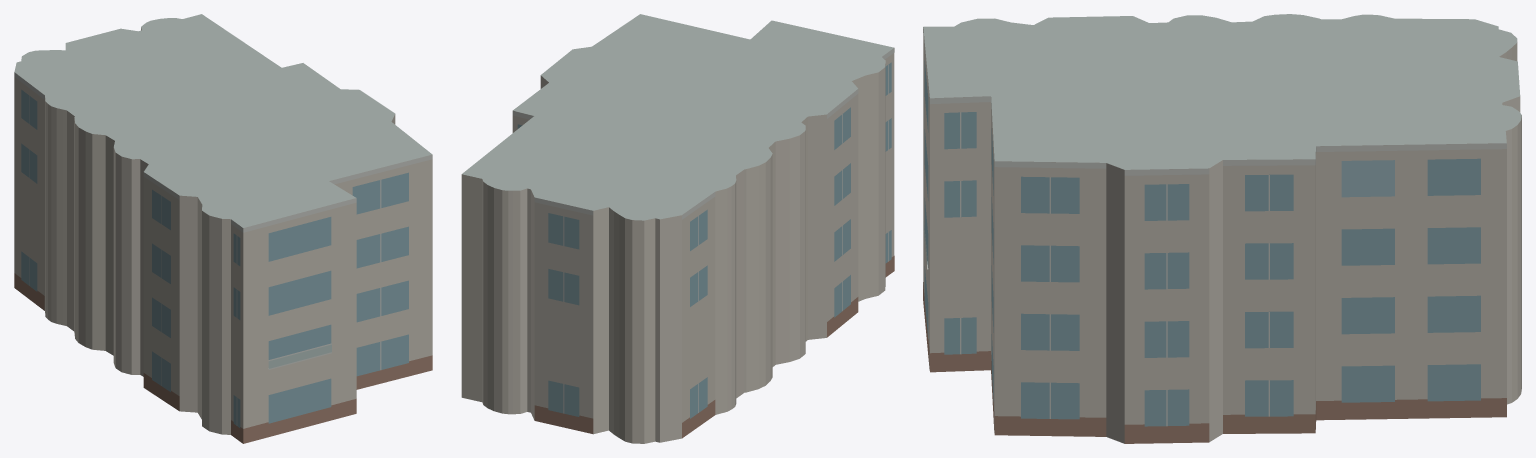
The model's file is survey-upis-32617388.glb.
3 views of the same model, side by side, from view 1: azimuth 30°, elevation 25°; view 2: azimuth 150°, elevation 25°; view 3: azimuth 270°, elevation 25° (orthographic). The views are drawn at different scales.
Parts seen in each view (by area): view 1: survey-upis-32617388.tmp; view 2: survey-upis-32617388.tmp; view 3: survey-upis-32617388.tmp.
Part boxes in pixels (left/top/right/bottom): survey-upis-32617388.tmp: left=14, top=14, right=432, bottom=443; survey-upis-32617388.tmp: left=461, top=14, right=894, bottom=443; survey-upis-32617388.tmp: left=923, top=14, right=1521, bottom=443.
Size of the model in its own units: 13.8 by 11.3 by 22.38.
